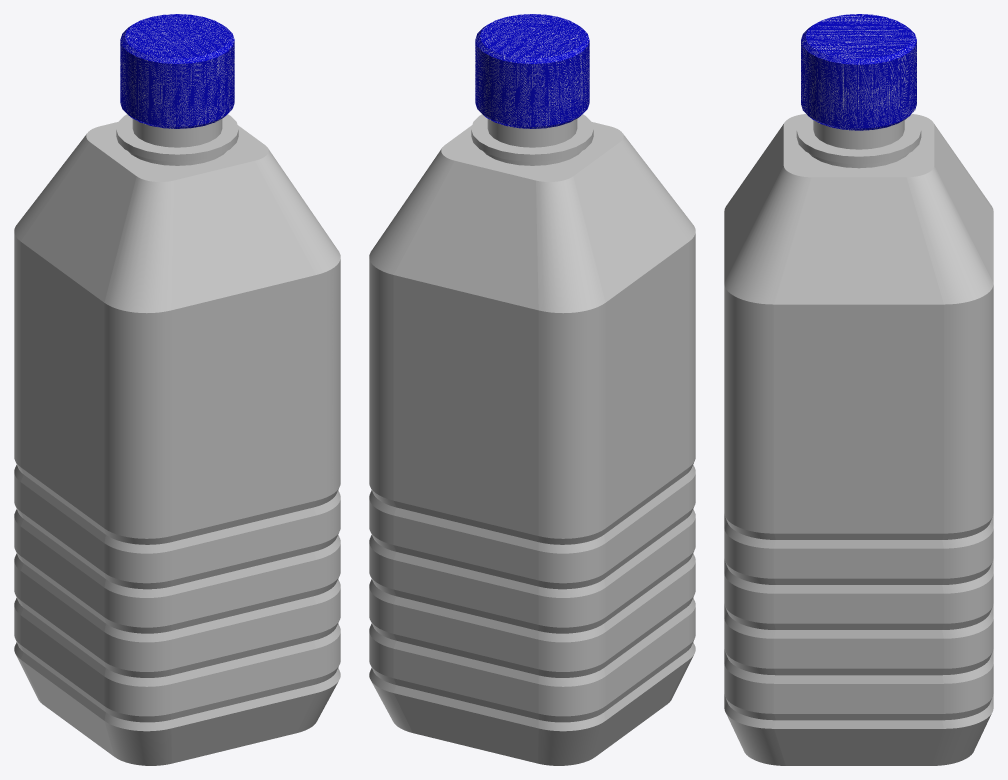
3 renders of one model, left to right at view 1: azimuth 30°, elevation 25°; view 2: azimuth 150°, elevation 25°; view 3: azimuth 270°, elevation 25°, orthographic.
Visible parts, largest first — view 1: mesh1_mesh1-geometry, mesh3_mesh3-geometry; view 2: mesh1_mesh1-geometry, mesh3_mesh3-geometry; view 3: mesh1_mesh1-geometry, mesh3_mesh3-geometry.
Boxes of the visible parts, x1,y1,x2,y2 form: mesh1_mesh1-geometry: [14, 114, 340, 765]; mesh3_mesh3-geometry: [120, 14, 234, 128]; mesh1_mesh1-geometry: [369, 114, 695, 765]; mesh3_mesh3-geometry: [475, 14, 589, 128]; mesh1_mesh1-geometry: [724, 114, 993, 765]; mesh3_mesh3-geometry: [801, 14, 916, 130].
Size of the model in its own units: 0.3199 by 0.8918 by 0.3199.
